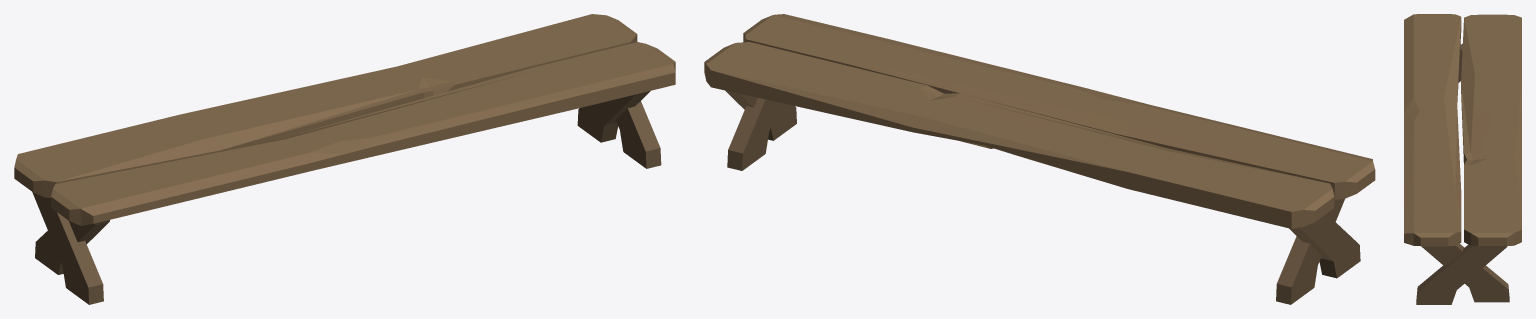
File: Banca_03.glb
3 views of the same model, side by side, from view 1: azimuth 30°, elevation 25°; view 2: azimuth 150°, elevation 25°; view 3: azimuth 270°, elevation 25° (orthographic). The views are drawn at different scales.
Visible parts, largest first — view 1: SM_Prop_Bench_01_1; view 2: SM_Prop_Bench_01_1; view 3: SM_Prop_Bench_01_1.
Part boxes in pixels (<box>): SM_Prop_Bench_01_1: <box>14,14,675,304</box>; SM_Prop_Bench_01_1: <box>704,14,1375,304</box>; SM_Prop_Bench_01_1: <box>1404,14,1521,304</box>.
Bounding box in the file's own units: 2.38 × 0.375 × 0.5292.
1 material, 1 textured.
